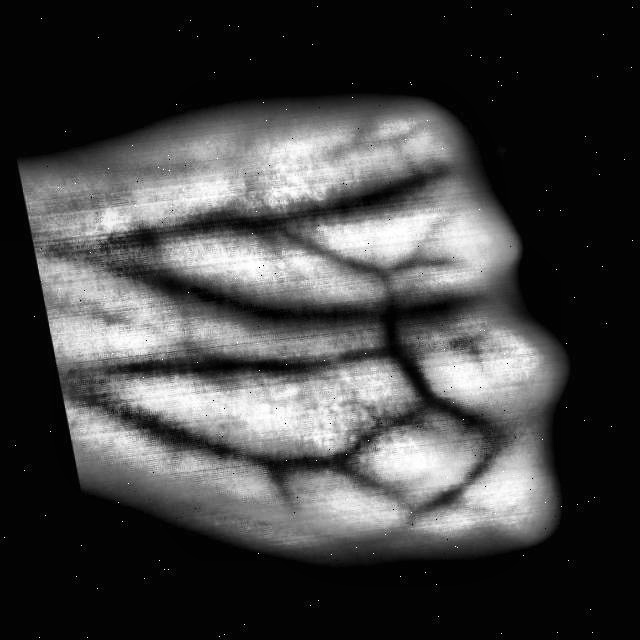Vein: (153, 271, 376, 338)
